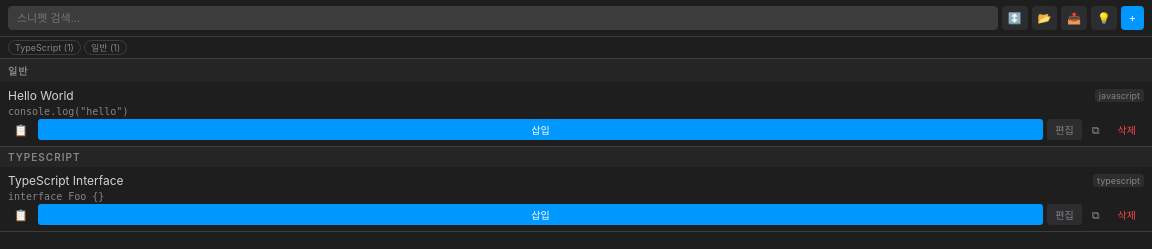
Test: SnippetPanel › 검색 결과가 없으면 결과없음 메시지가 표시된다
The image size is (1152, 249).
Expected: the text "Hello World" is shown, [8,88,74,103]
Step 1. Type "zzz없는검색어" into the field with placeholder "스니펫 검색..." → coordinates (503, 18), box [8,6,998,30]
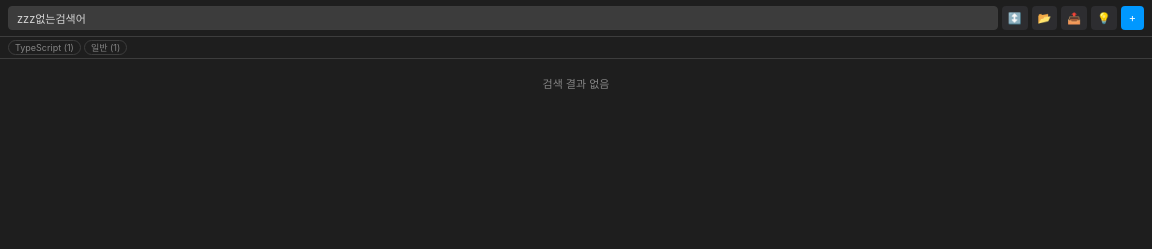
Expected: the text "검색 결과 없음" is shown, [542,77,609,91]
